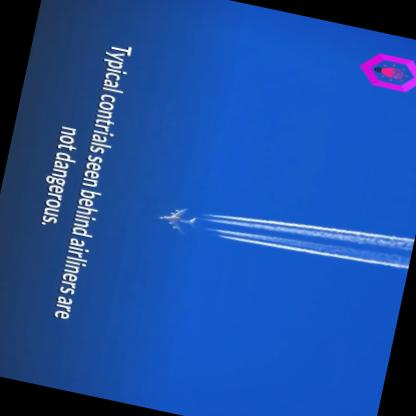plane: (158, 200, 200, 241)
